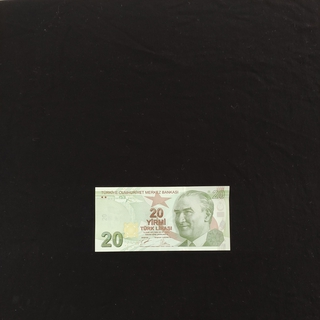20TLFront: (95, 186, 230, 251)
